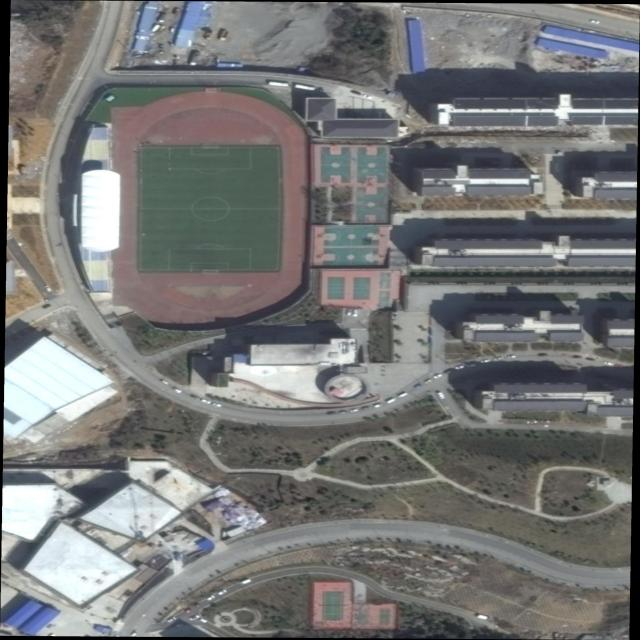large-vehicle: (294, 84, 316, 91), (268, 82, 289, 86), (242, 579, 252, 585)
small-vehicle: (386, 397, 397, 404), (167, 616, 177, 623), (437, 392, 446, 399), (444, 368, 454, 374), (44, 286, 52, 293), (201, 399, 212, 404), (189, 615, 200, 620), (590, 19, 601, 24), (206, 595, 215, 601), (218, 590, 227, 596), (173, 388, 182, 394), (424, 378, 433, 384), (399, 392, 408, 398), (212, 402, 222, 407), (433, 374, 443, 379), (374, 403, 384, 408), (191, 395, 200, 400), (42, 304, 51, 309), (455, 365, 464, 370), (131, 630, 138, 636), (586, 357, 596, 361), (415, 384, 423, 389), (349, 408, 359, 412), (362, 406, 371, 410), (338, 411, 347, 415), (162, 380, 169, 385), (353, 310, 358, 317), (494, 357, 502, 361), (480, 360, 490, 363), (327, 412, 336, 415), (538, 353, 547, 356), (466, 364, 475, 367), (604, 362, 612, 365), (347, 310, 351, 316), (508, 355, 515, 358), (573, 356, 582, 358)
